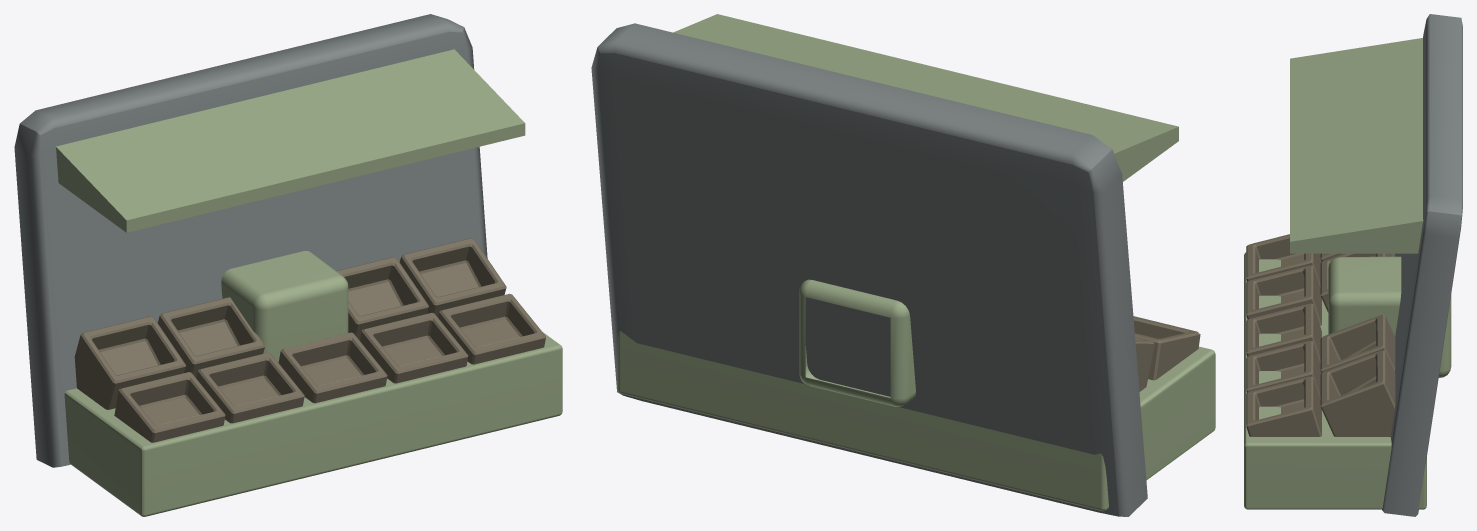
3 views of the same model, side by side, from view 1: azimuth 30°, elevation 25°; view 2: azimuth 150°, elevation 25°; view 3: azimuth 270°, elevation 25° (orthographic). The views are drawn at different scales.
Parts seen in each view (by area): view 1: pCube119; view 2: pCube119; view 3: pCube119.
Part boxes in pixels (<box>): pCube119: <box>14,14,562,516</box>; pCube119: <box>591,14,1215,516</box>; pCube119: <box>1244,14,1462,516</box>.
Size of the model in its own units: 70.82 by 50.61 by 32.27.
